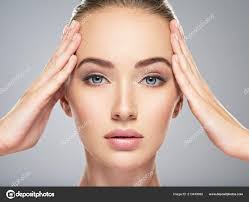white_female: (65, 29, 190, 180)
